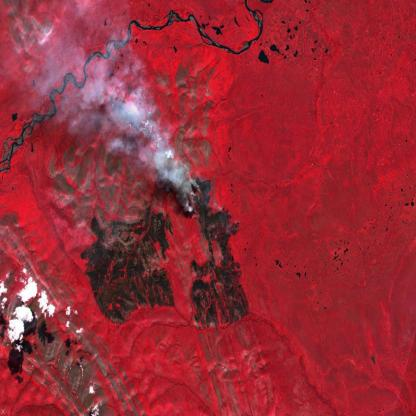fire: (178, 174, 204, 228)
